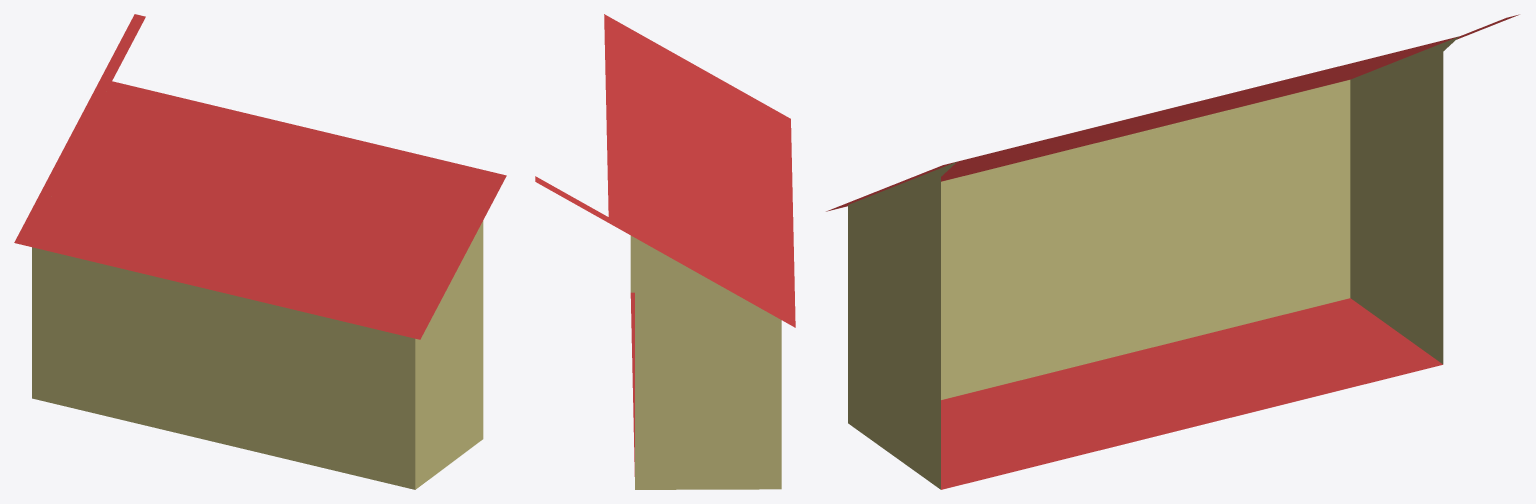
The picture shows the model from 3 angles, left to right: view 1: azimuth 30°, elevation 25°; view 2: azimuth 150°, elevation 25°; view 3: azimuth 270°, elevation 25°; orthographic projection. The views are drawn at different scales.
Size of the model in its own units: 14.9 by 20.17 by 12.53.
